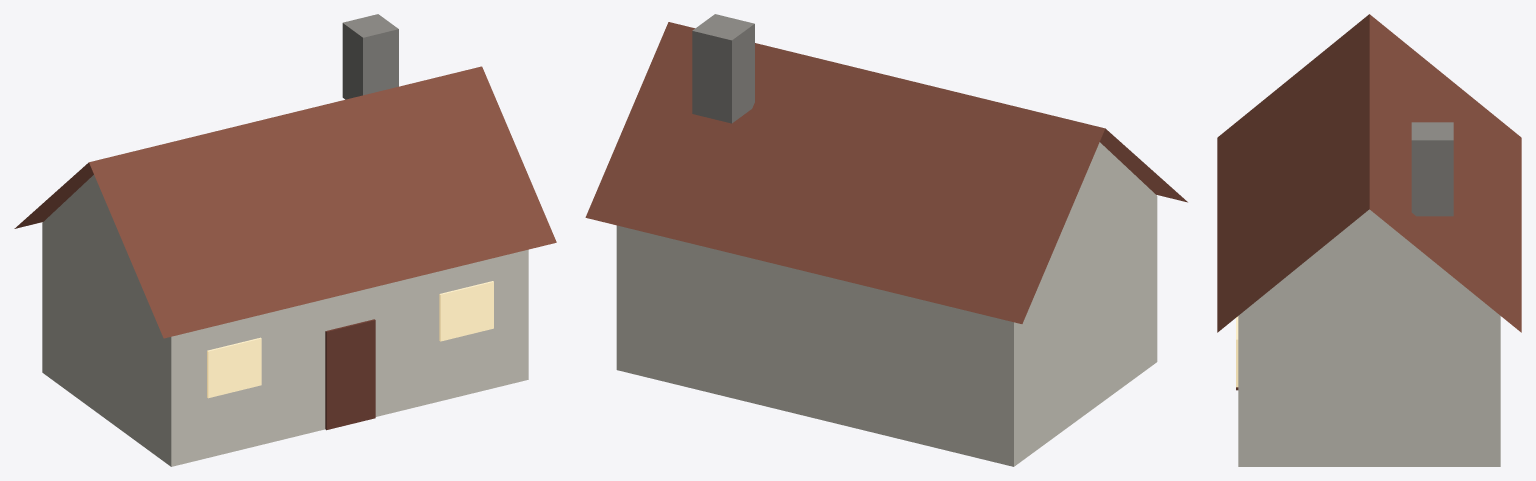
The model's file is cottage.glb.
3 renders of one model, left to right at view 1: azimuth 30°, elevation 25°; view 2: azimuth 150°, elevation 25°; view 3: azimuth 270°, elevation 25°, orthographic. The views are drawn at different scales.
Parts seen in each view (by area): view 1: roof, walls, win, door, gable, chimney; view 2: roof, walls, chimney, gable; view 3: roof, walls, gable, chimney.
Boxes of the visible parts, x1,y1,x2,y2 form: roof: (14, 66, 556, 338); walls: (42, 223, 528, 466); win: (207, 281, 493, 398); door: (325, 319, 375, 430); gable: (42, 175, 146, 299); chimney: (342, 14, 398, 99); roof: (585, 22, 1187, 323); walls: (616, 196, 1157, 466); chimney: (692, 14, 754, 123); gable: (1041, 142, 1156, 280); roof: (1217, 14, 1521, 332); walls: (1238, 314, 1500, 466); gable: (1240, 209, 1498, 314); chimney: (1411, 122, 1453, 216).
Size of the model in its own units: 8.8 by 6.4 by 5.8.
